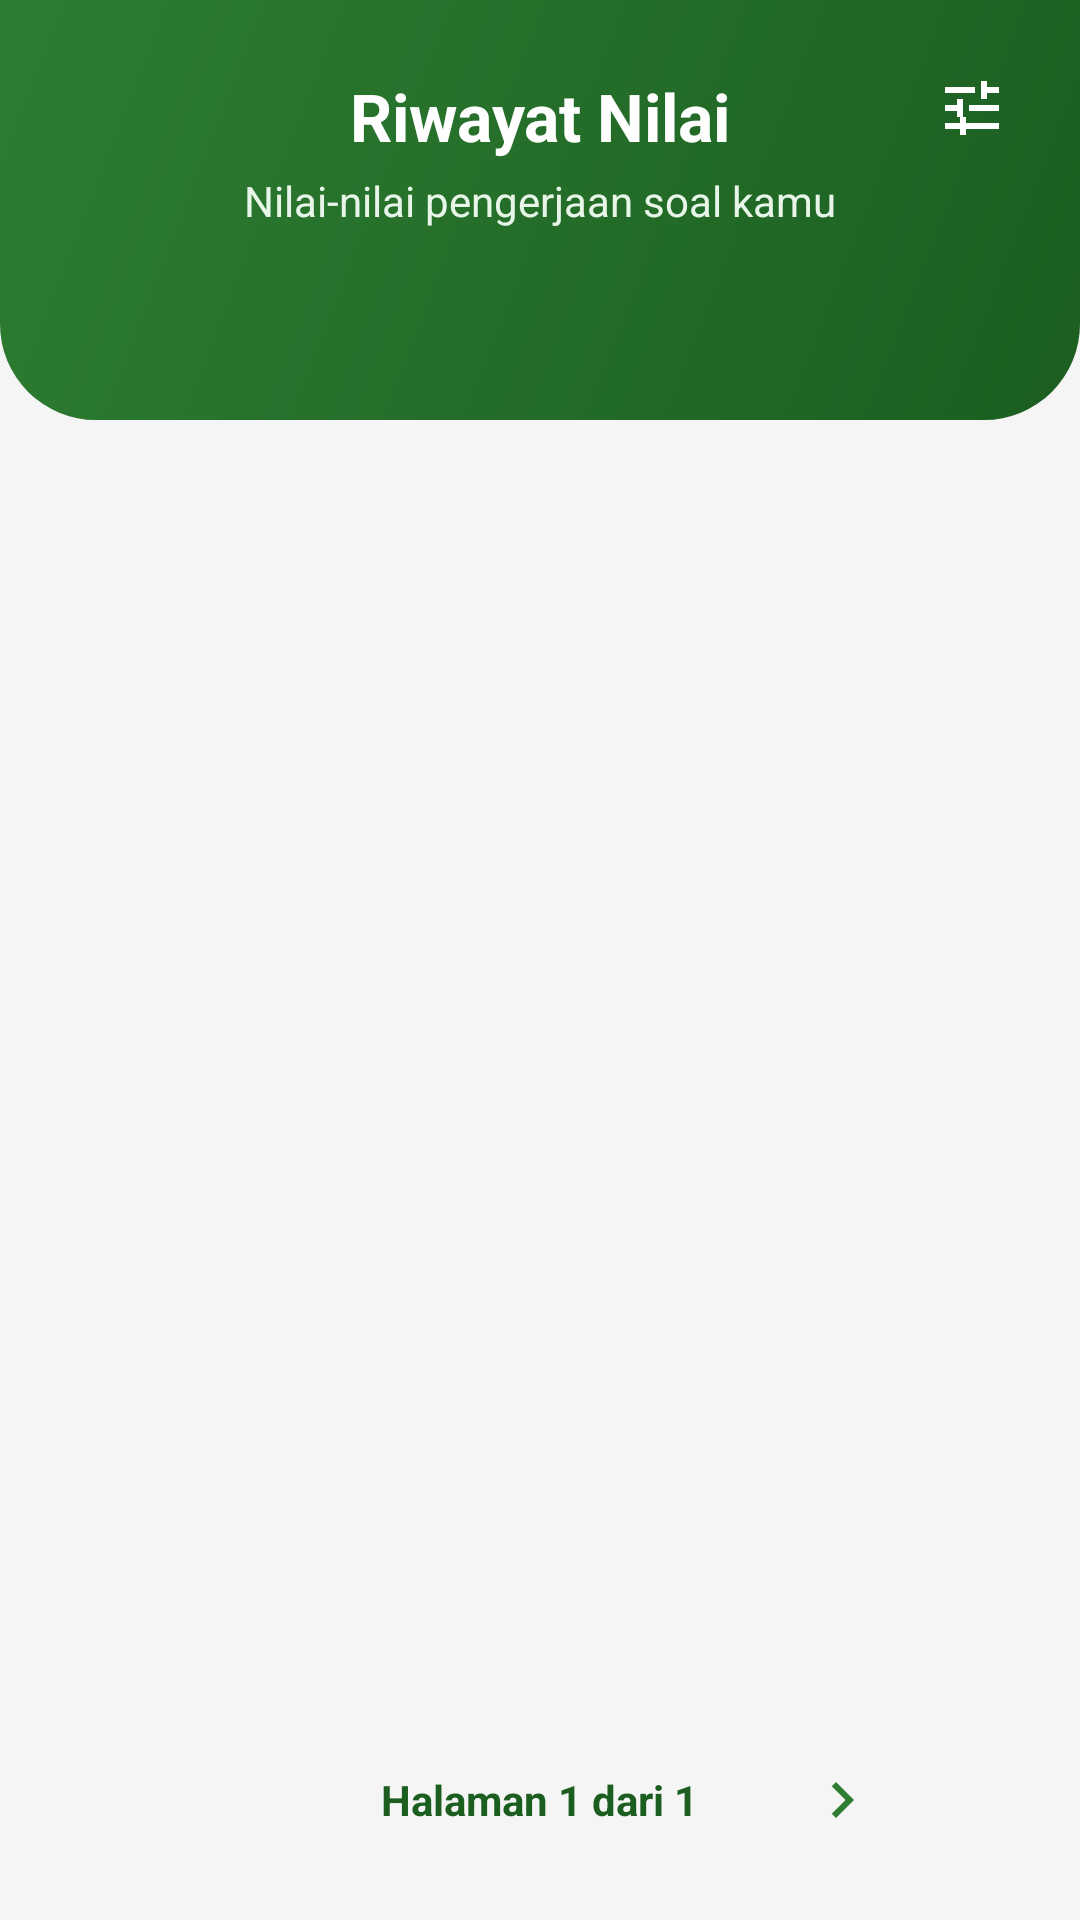

Named icons in this screenshot (1080x1920) and their centers, point (x, y):
arrow right: point (843, 1800)
filter: point (972, 108)
